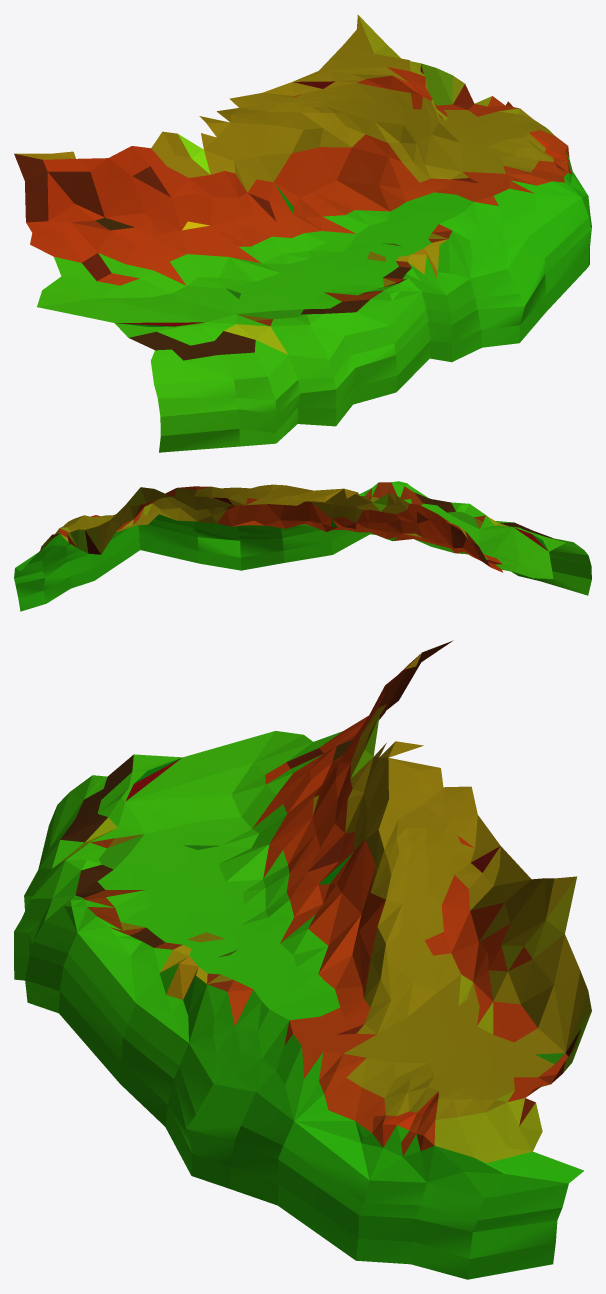
3 renders of one model, top to bottom at view 1: azimuth 30°, elevation 25°; view 2: azimuth 150°, elevation 25°; view 3: azimuth 270°, elevation 25°, orthographic. The views are drawn at different scales.
Parts seen in each view (by area): view 1: z46; view 2: z46; view 3: z46.
Boxes of the visible parts, x1=… form: z46: x1=14, y1=15, x2=591, y2=452; z46: x1=14, y1=481, x2=591, y2=611; z46: x1=14, y1=640, x2=591, y2=1279.
Bounding box in the file's own units: 6203 × 2224 × 3899.
